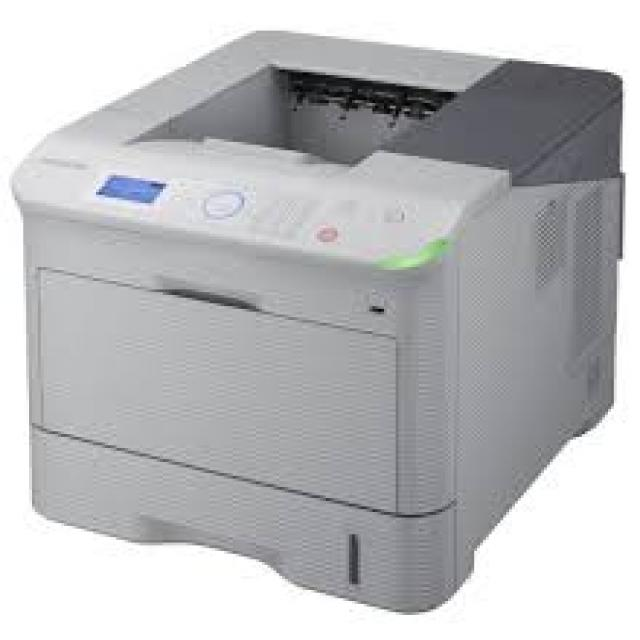printer: (8, 25, 622, 613)
